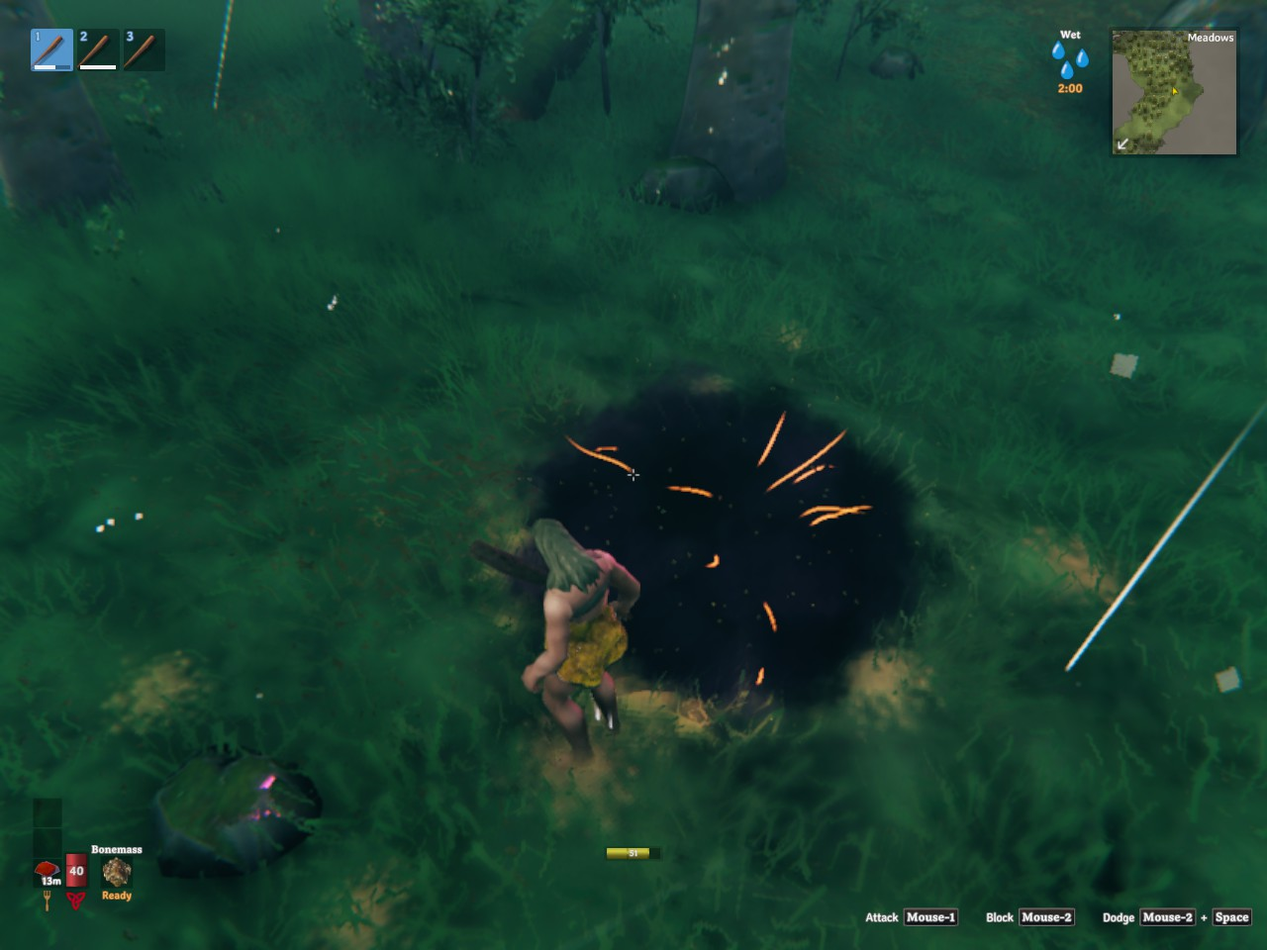Food Indicator: (36, 797, 63, 891)
Health Bar: (63, 820, 90, 891)
Hotbar: (24, 21, 195, 80)
Resin: (557, 606, 627, 687)
Stamina Bar: (601, 841, 662, 865)
Status Indicator: (1024, 22, 1111, 100)
